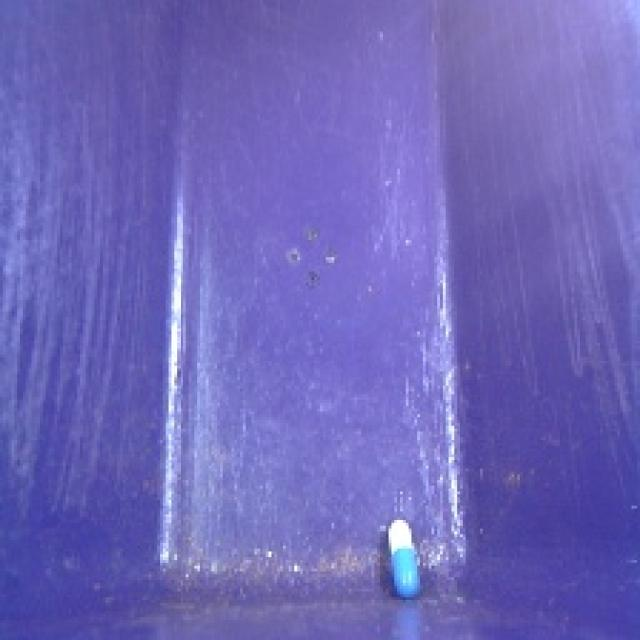small: (380, 508, 425, 602)
